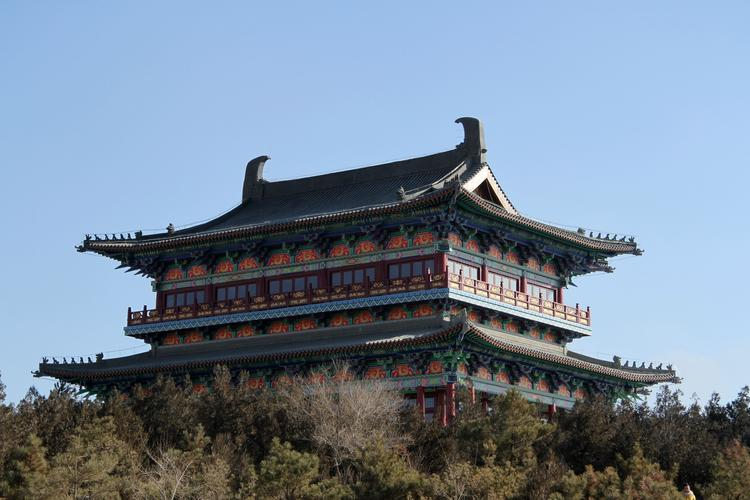buildings: (48, 126, 679, 407)
